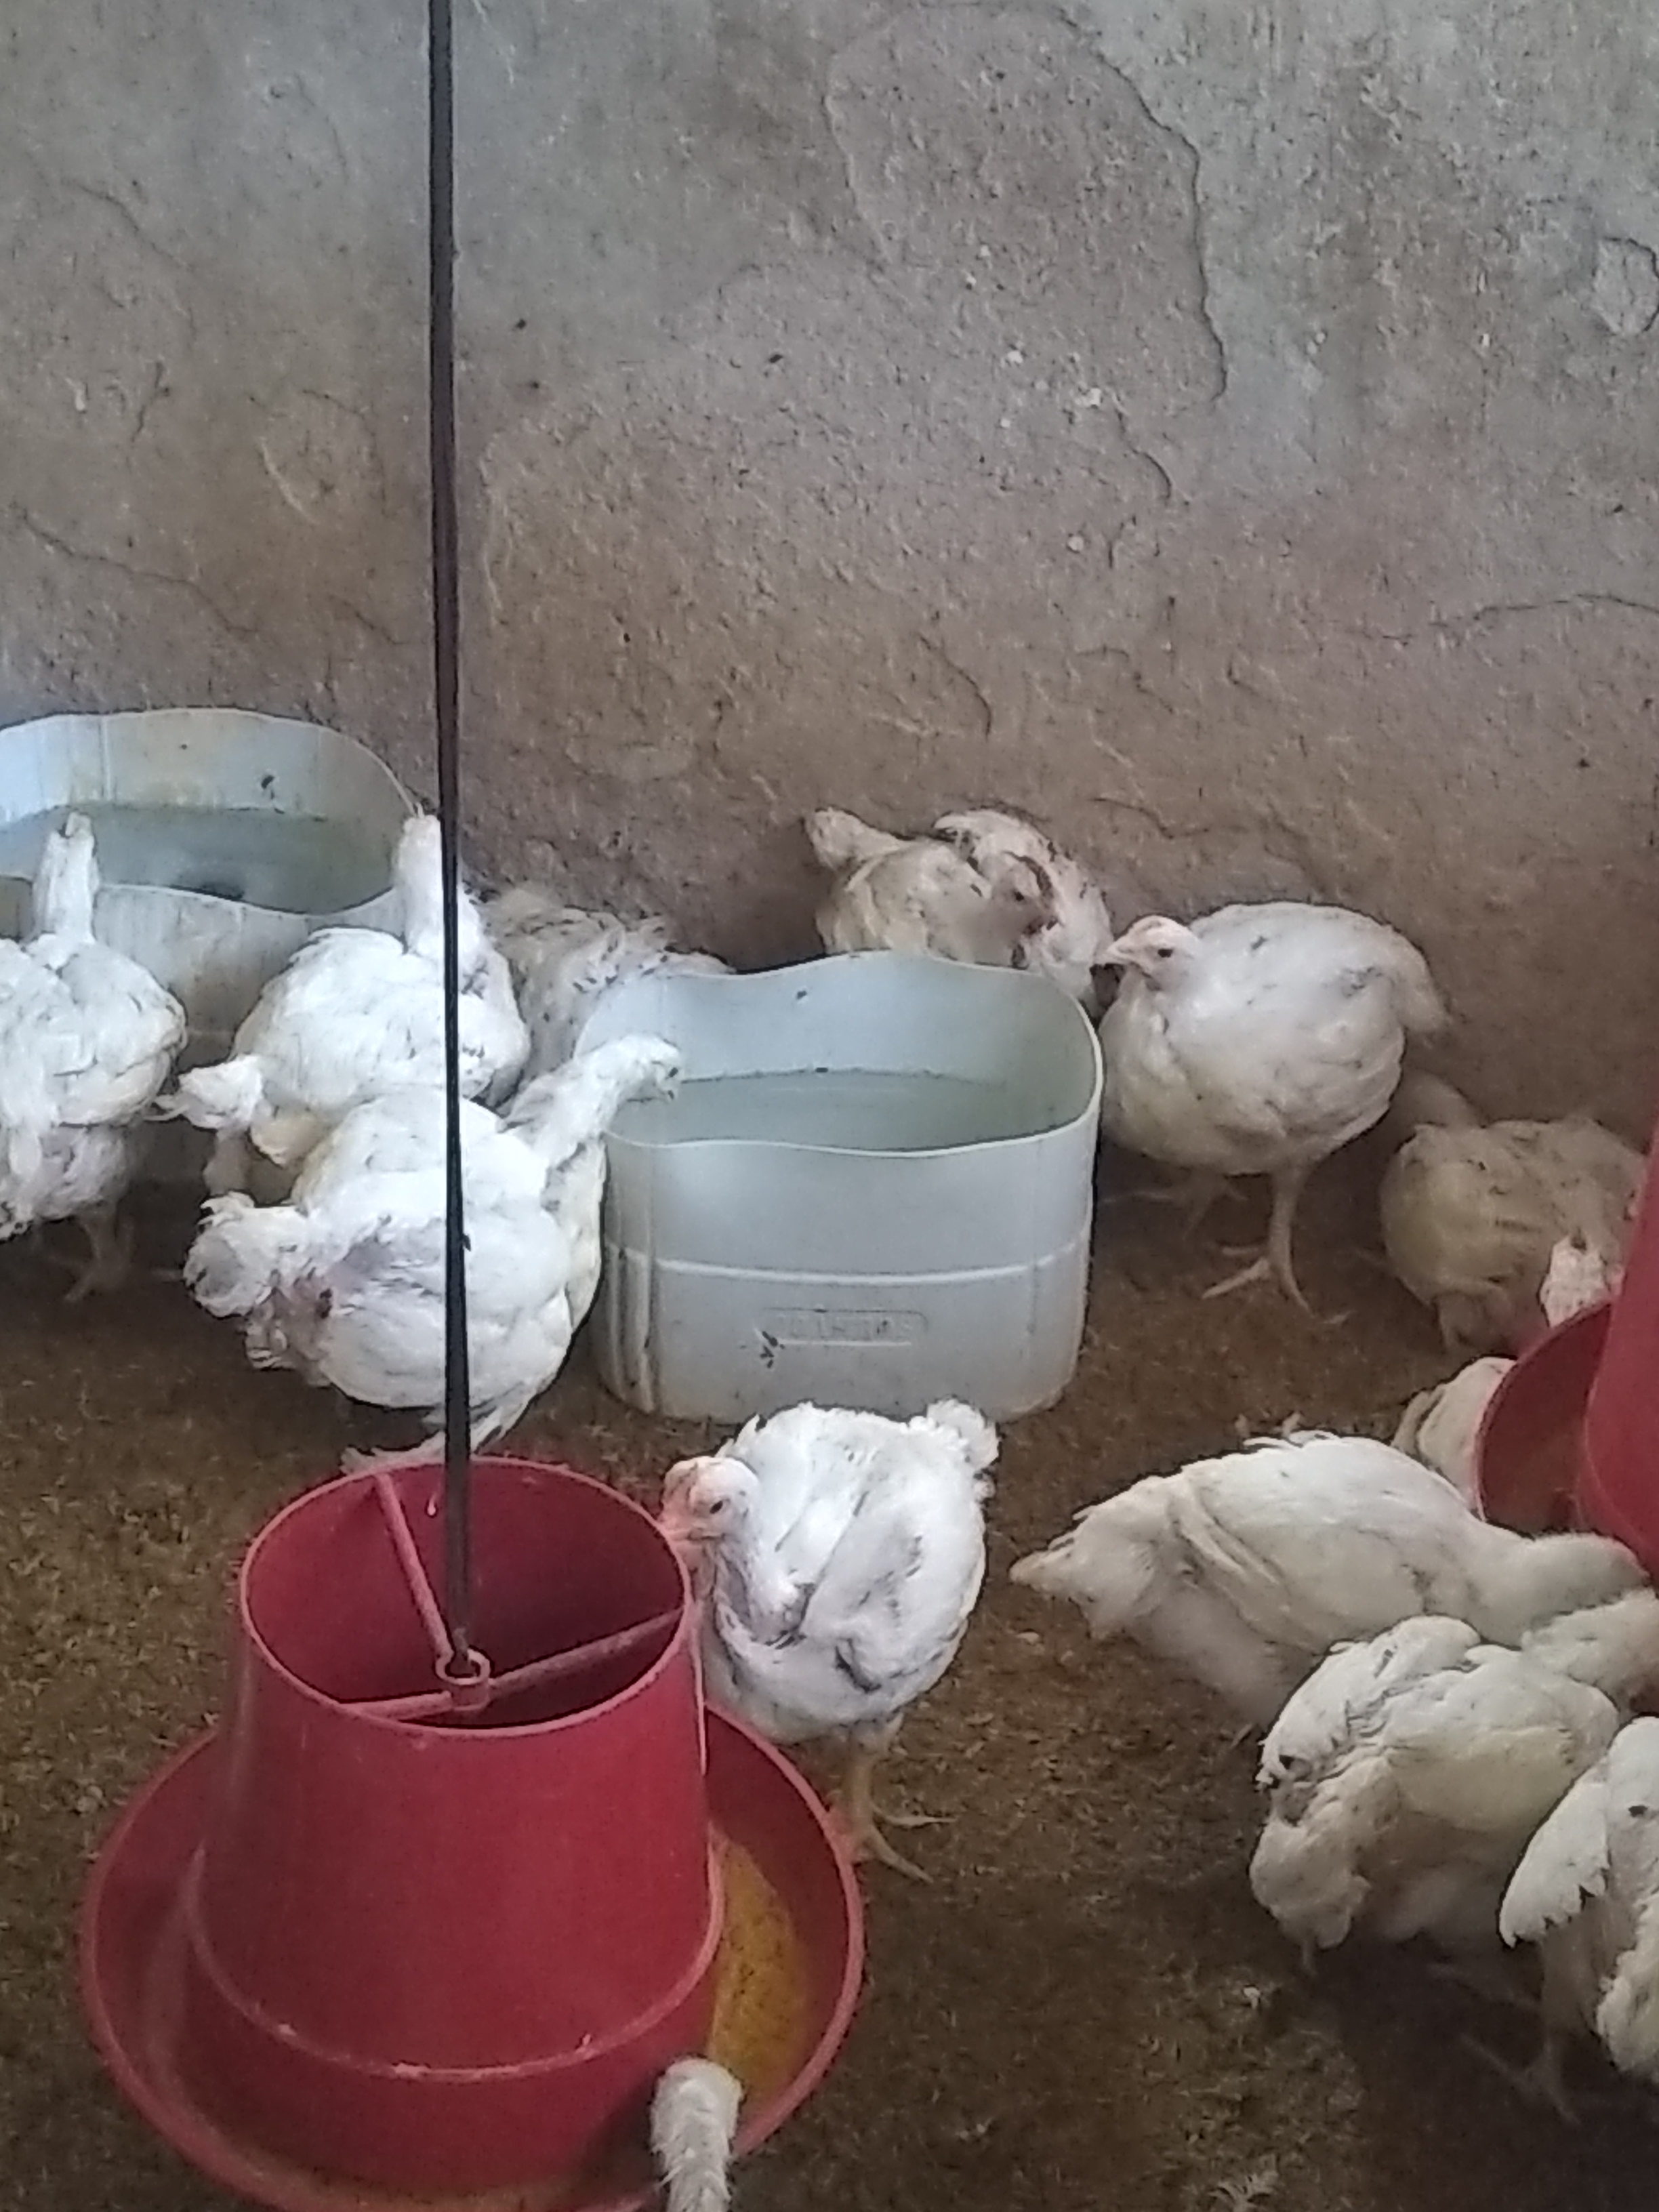Pollos: (185, 1024, 680, 1465), (645, 1348, 971, 1848), (1033, 1416, 1659, 1674), (1241, 1568, 1659, 1921), (1086, 850, 1425, 1261), (213, 850, 544, 1163), (767, 733, 1107, 1038), (0, 772, 179, 1285), (563, 1970, 922, 2212), (1480, 1723, 1659, 2134), (1382, 1204, 1640, 1470), (1368, 1049, 1629, 1305)
